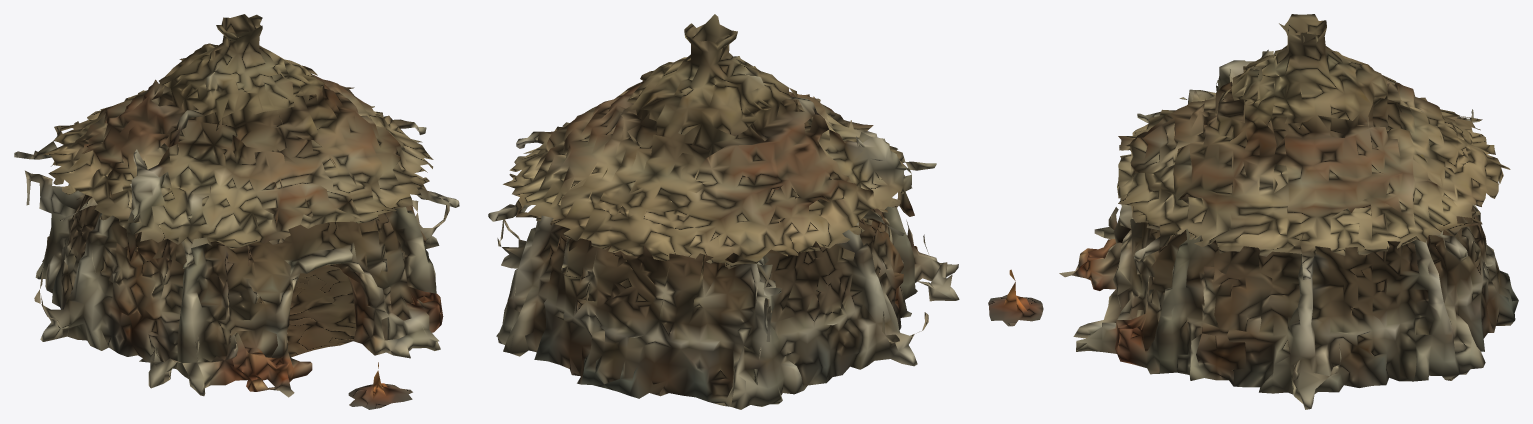
File: knochenhuette.glb
3 views of the same model, side by side, from view 1: azimuth 30°, elevation 25°; view 2: azimuth 150°, elevation 25°; view 3: azimuth 270°, elevation 25° (orthographic). The views are drawn at different scales.
Bounding box in the file's own units: 1.73 × 1.14 × 1.86.
